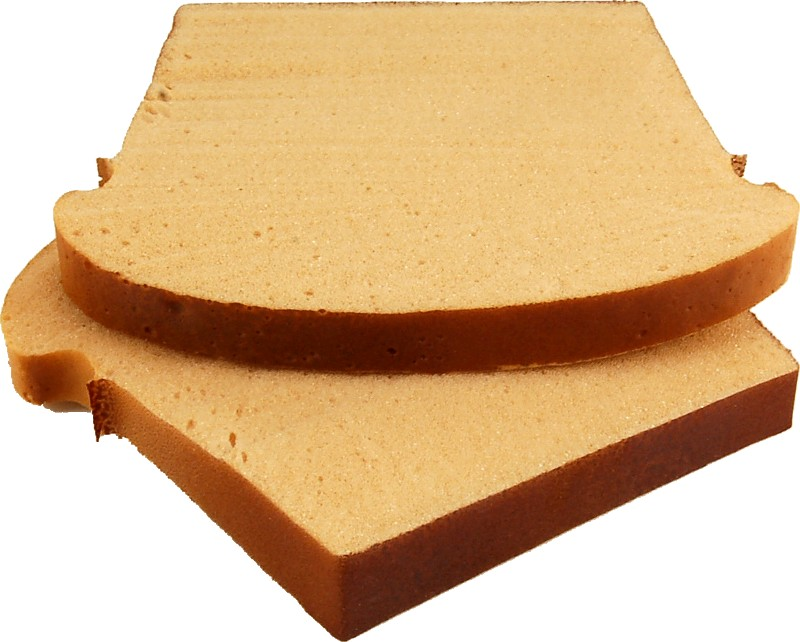slice of bread: (34, 237, 786, 433)
